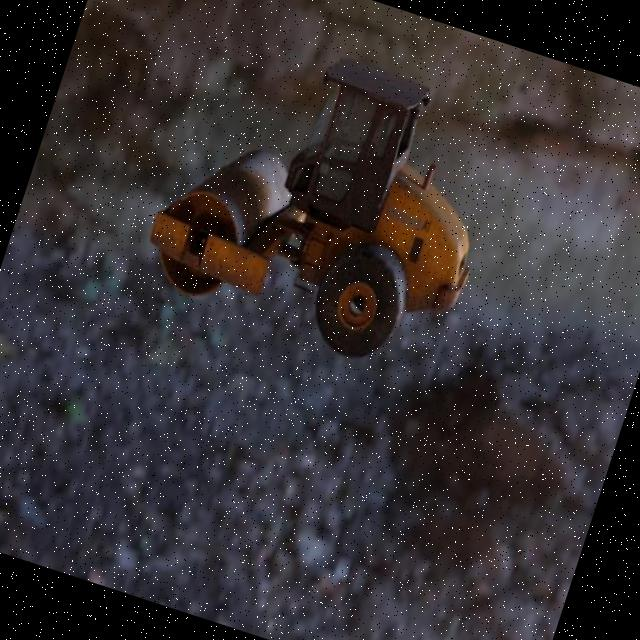Roller: (132, 14, 521, 384)
